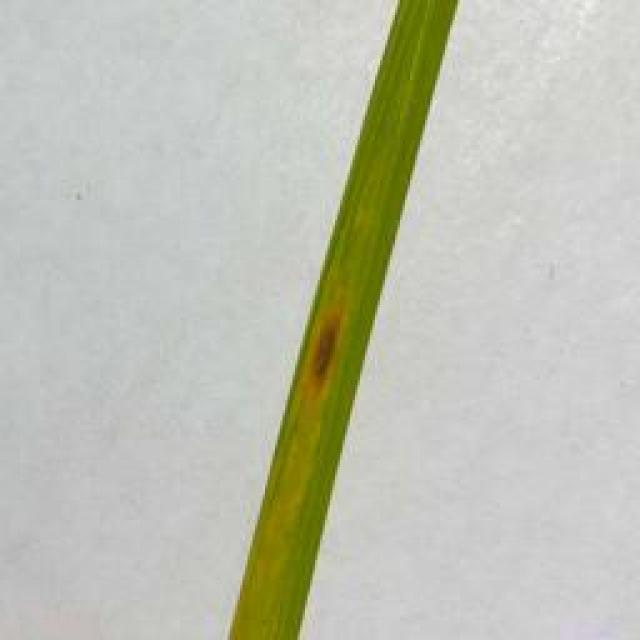Brown_Spot: (293, 300, 357, 396)
